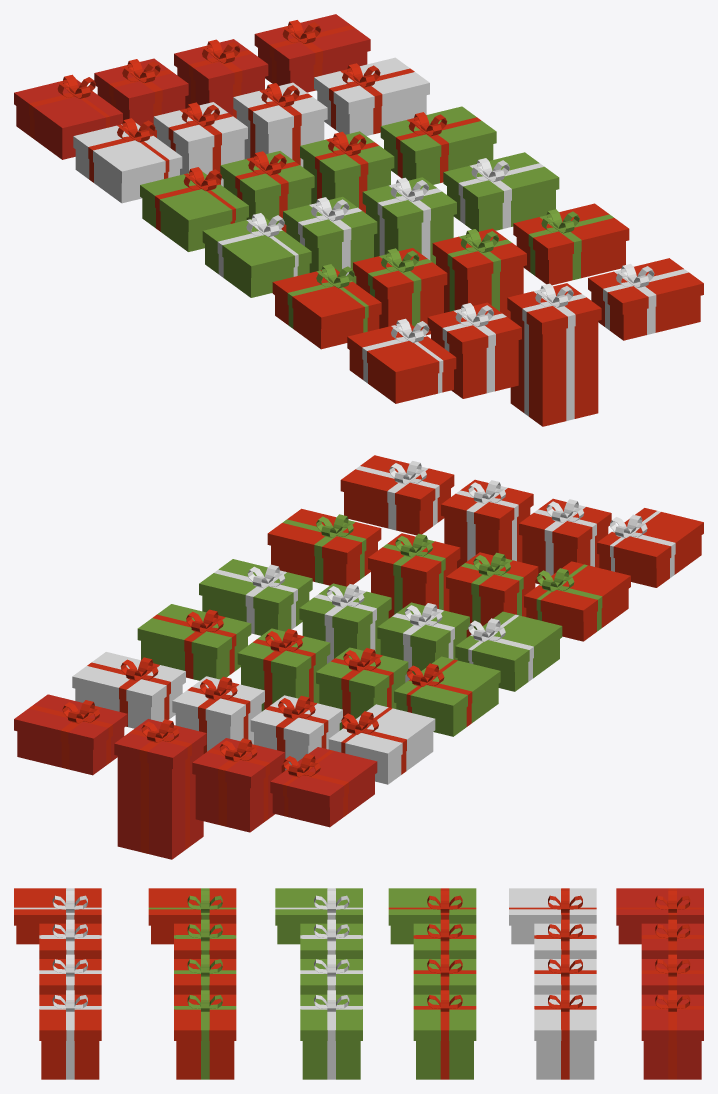
Rendered from Presents.fbx.
The picture shows the model from 3 angles, top to bottom: view 1: azimuth 30°, elevation 25°; view 2: azimuth 150°, elevation 25°; view 3: azimuth 270°, elevation 25°; orthographic projection. The views are drawn at different scales.
Visible parts, largest first — view 1: Present3Red, Present4Red, Present4Red.001, Present4Red.002, Present1Red, Present4Red.004, Present2Red, Present1Red.001, Present4Red.003, Present1Red.002, Present1Red.004, Present4Red.005 (+12 smaller); view 2: Present3Red.005, Present4Red.005, Present4Red, Present2Red.005, Present4Red.001, Present1Red.005, Present4Red.003, Present1Red, Present4Red.002, Present1Red.001, Present4Red.004, Present3Red (+12 smaller); view 3: Present4Red.003, Present4Red, Present4Red.002, Present4Red.004, Present4Red.001, Present4Red.005, Present1Red.003, Present1Red.001, Present1Red, Present1Red.002, Present1Red.004, Present1Red.005 (+12 smaller).
Part boxes in pixels (<box>): Present3Red: <box>507,283,601,426</box>; Present4Red: <box>588,258,703,340</box>; Present4Red.001: <box>513,203,629,285</box>; Present4Red.002: <box>443,152,559,231</box>; Present1Red: <box>347,318,456,403</box>; Present4Red.004: <box>314,57,429,135</box>; Present2Red: <box>427,302,521,398</box>; Present1Red.001: <box>272,264,381,349</box>; Present4Red.003: <box>380,106,496,184</box>; Present1Red.002: <box>202,213,311,297</box>; Present1Red.004: <box>73,118,182,203</box>; Present4Red.005: <box>254,14,370,92</box>; Present3Red.005: <box>114,719,206,859</box>; Present4Red.005: <box>14,694,127,775</box>; Present4Red: <box>340,455,454,535</box>; Present2Red.005: <box>192,738,284,832</box>; Present4Red.001: <box>267,508,381,586</box>; Present1Red.005: <box>270,747,377,827</box>; Present4Red.003: <box>137,604,251,680</box>; Present1Red: <box>597,508,703,587</box>; Present4Red.002: <box>199,559,312,635</box>; Present1Red.001: <box>524,561,630,641</box>; Present4Red.004: <box>72,652,185,728</box>; Present3Red: <box>441,479,533,568</box>; Present4Red.003: <box>413,990,476,1064</box>; Present4Red: <box>39,990,101,1064</box>; Present4Red.002: <box>300,990,362,1064</box>; Present4Red.004: <box>534,990,596,1064</box>; Present4Red.001: <box>174,990,236,1064</box>; Present4Red.005: <box>641,990,703,1064</box>; Present1Red.003: <box>388,888,476,944</box>; Present1Red.001: <box>148,888,236,944</box>; Present1Red: <box>14,888,101,944</box>; Present1Red.002: <box>275,888,362,944</box>; Present1Red.004: <box>509,888,596,944</box>; Present1Red.005: <box>616,888,703,944</box>.
Size of the model in its own units: 1158 by 404 by 2378.
